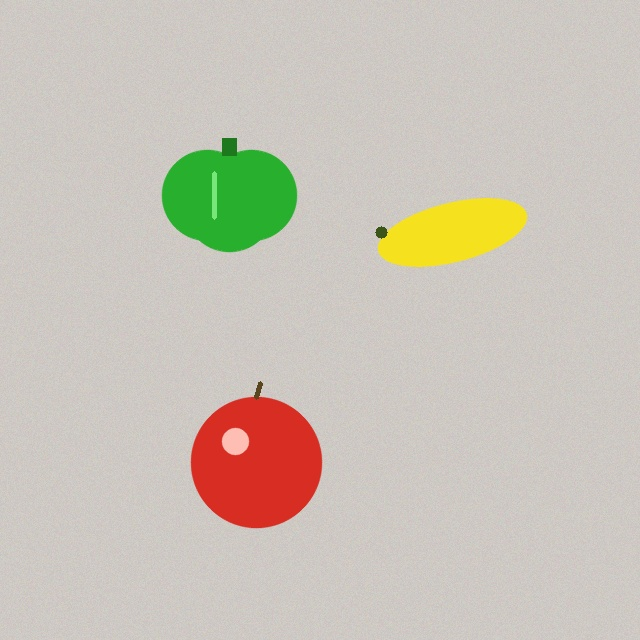Fresh apple: (191, 383, 321, 527)
Fresh banana: (373, 196, 531, 268)
Fresh bell pepper: (162, 138, 296, 251)
